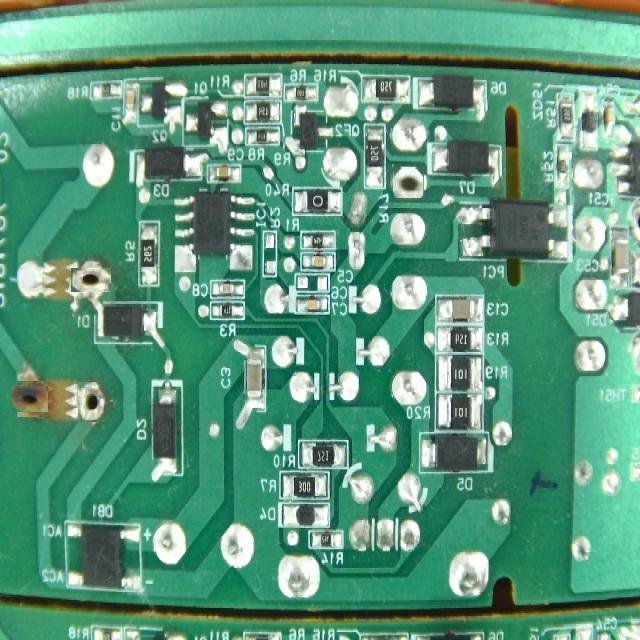damged: (75, 264, 108, 296), (78, 382, 104, 422), (15, 383, 46, 415), (394, 167, 425, 198)
